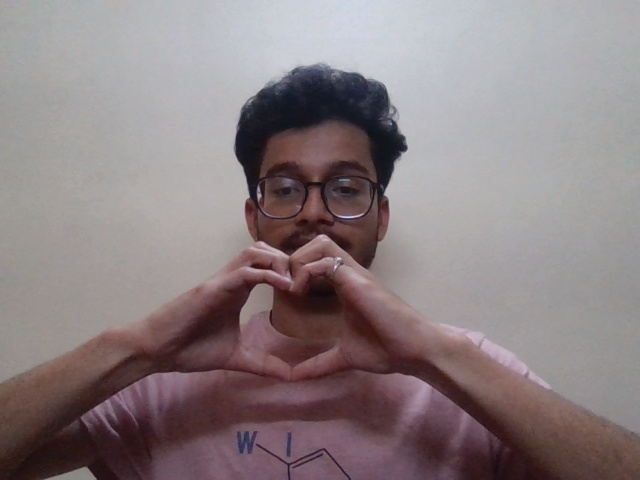silent-voice: (173, 235, 415, 391)
